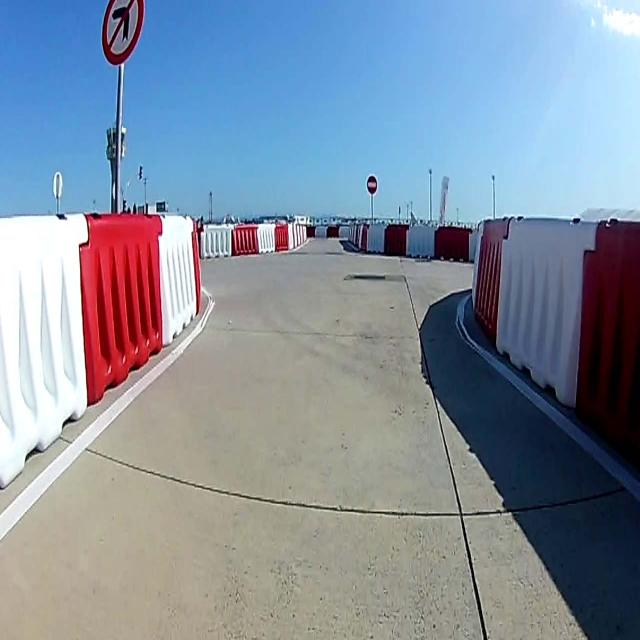girisyok: (367, 175, 377, 194)
soladonulmez: (101, 1, 145, 66)
